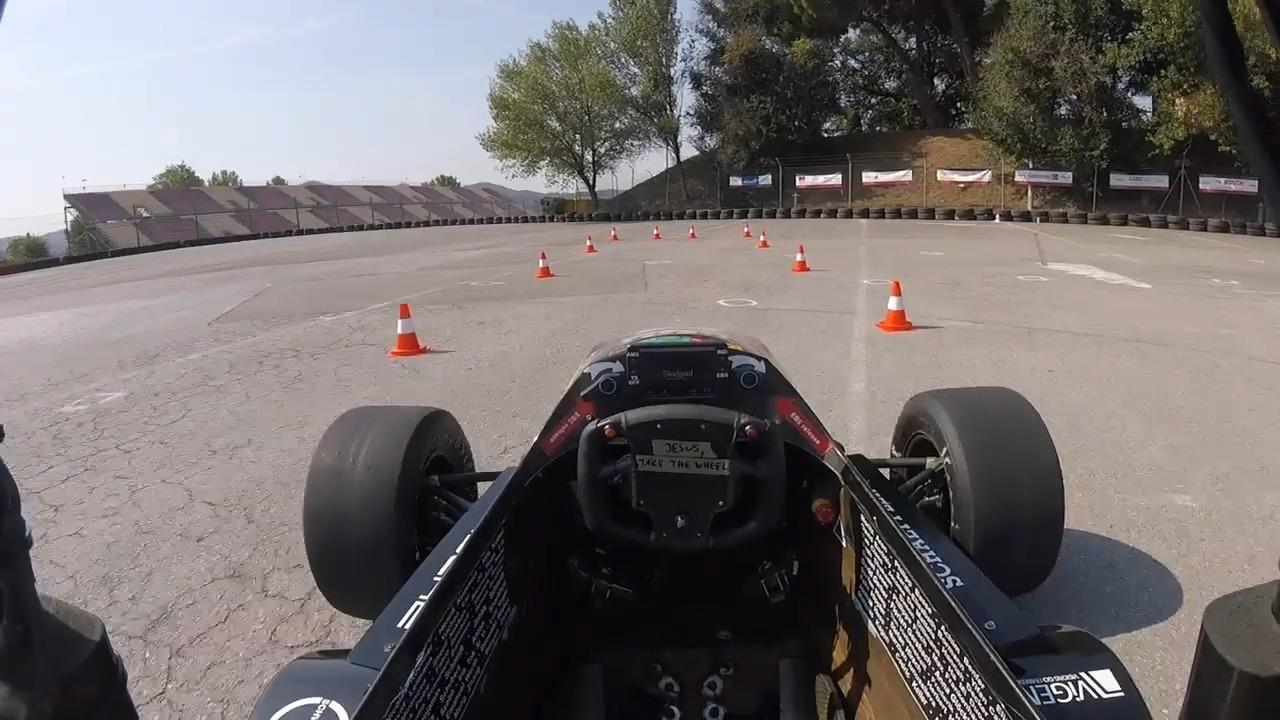orange_cone: (383, 301, 433, 359), (873, 277, 918, 334), (790, 243, 812, 273), (534, 248, 554, 279), (583, 234, 598, 254), (756, 229, 771, 249), (650, 224, 663, 240), (686, 223, 698, 239), (608, 226, 620, 241), (742, 222, 752, 238)
